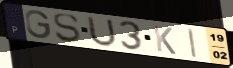3: (118, 20, 145, 52)
G: (24, 9, 53, 40)
I: (186, 27, 199, 60)
K: (152, 24, 178, 56)
S: (52, 13, 82, 44)
U: (87, 15, 118, 49)
